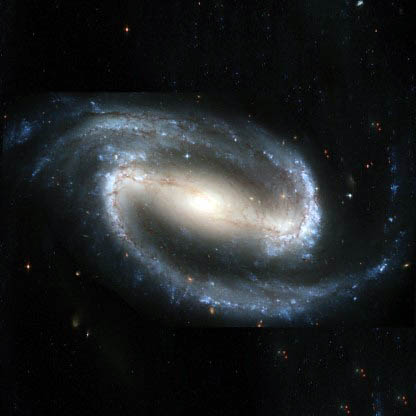NGC 1300: (21, 93, 405, 322)
